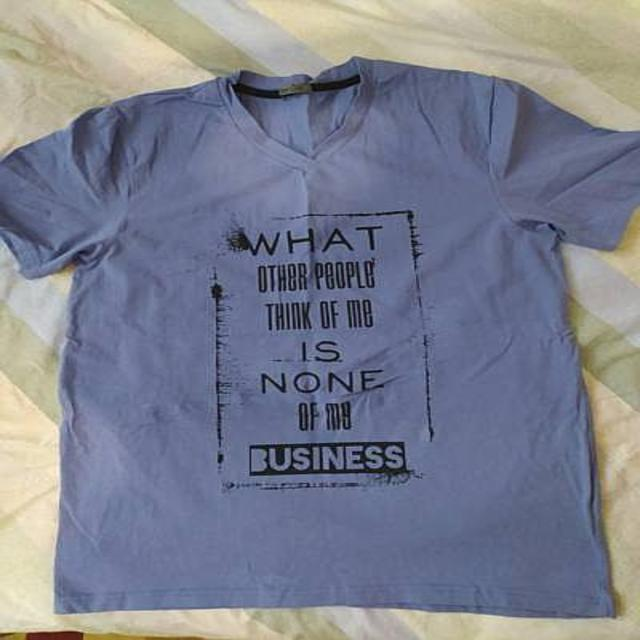T_SHIRT: (0, 48, 640, 622)
